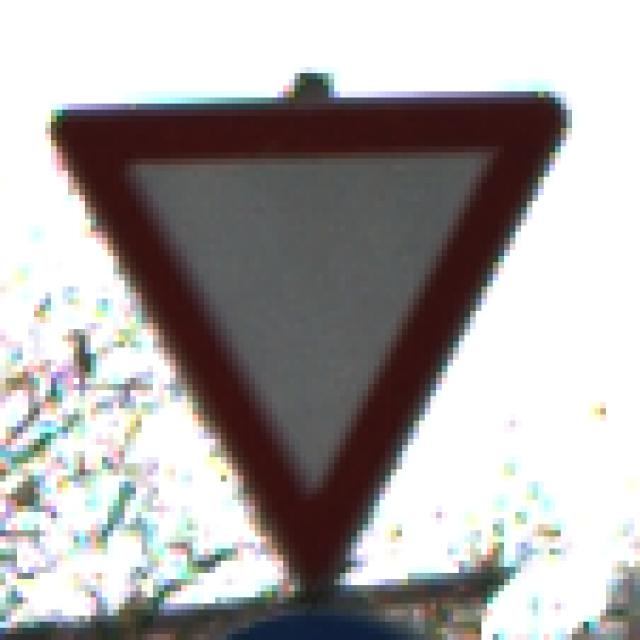Give Way: (52, 56, 584, 586)
